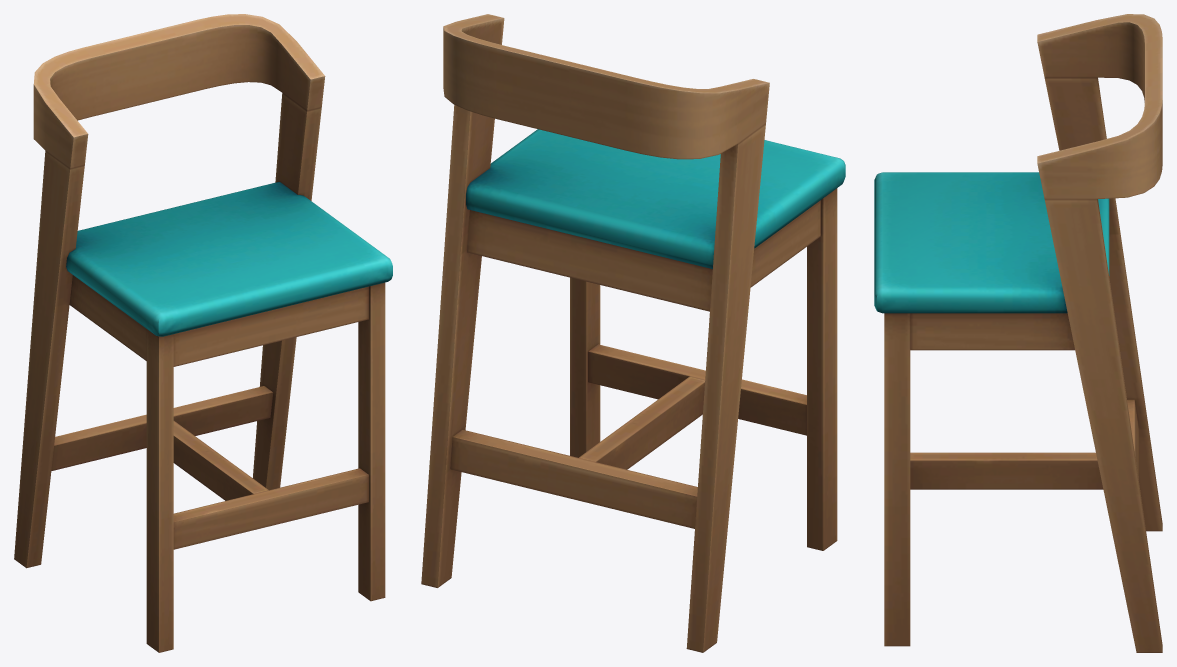
The model's file is 轨道坐.glb.
3 renders of one model, left to right at view 1: azimuth 30°, elevation 25°; view 2: azimuth 150°, elevation 25°; view 3: azimuth 270°, elevation 25°, orthographic. The views are drawn at different scales.
Parts seen in each view (by area): view 1: TinyLiving_NotQuiteOrbitalSitting_41; view 2: TinyLiving_NotQuiteOrbitalSitting_41; view 3: TinyLiving_NotQuiteOrbitalSitting_41.
Part boxes in pixels (x1,y1,x2,y2): TinyLiving_NotQuiteOrbitalSitting_41: (14,14,392,652); TinyLiving_NotQuiteOrbitalSitting_41: (421,14,845,652); TinyLiving_NotQuiteOrbitalSitting_41: (874,14,1162,652).
Size of the model in its own units: 0.55 by 1.03 by 0.5193.
1 material, 1 textured.
